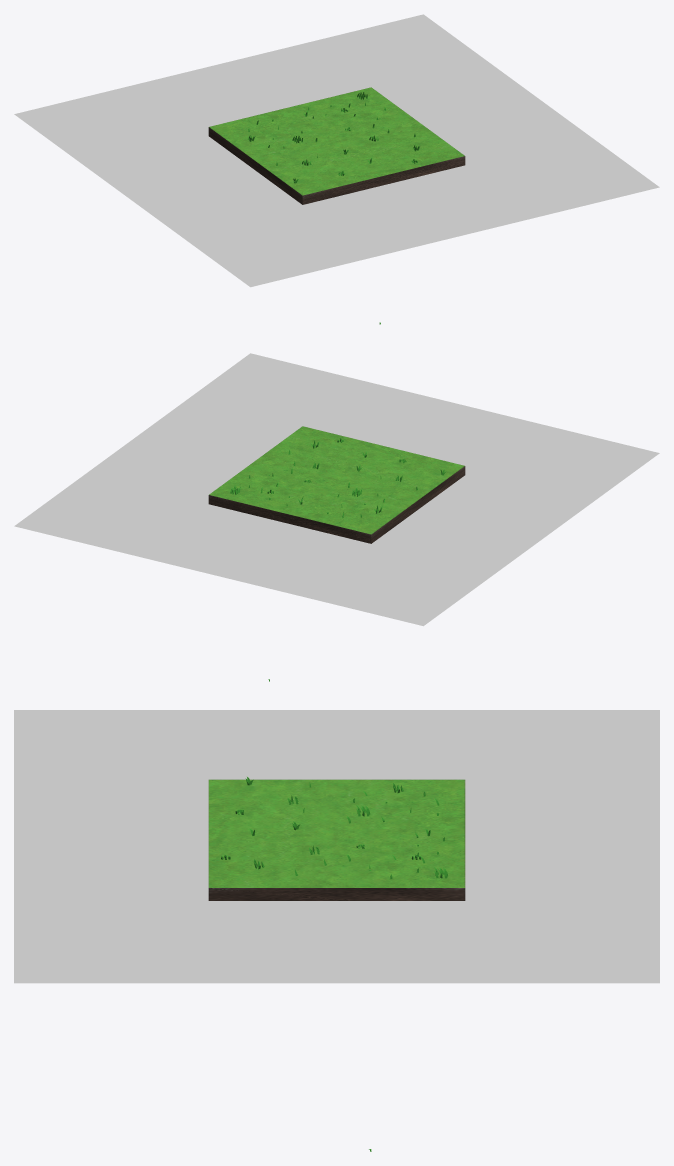
Rendered from GRASS_TILE.glb.
The picture shows the model from 3 angles, top to bottom: view 1: azimuth 30°, elevation 25°; view 2: azimuth 150°, elevation 25°; view 3: azimuth 270°, elevation 25°; orthographic projection. The views are drawn at different scales.
Visible parts, largest first — view 1: Plane, Cube.001; view 2: Plane, Cube.001; view 3: Plane, Cube.001.
Part boxes in pixels (bbox=[...]): Plane: bbox=[14, 14, 659, 287]; Cube.001: bbox=[208, 87, 465, 204]; Plane: bbox=[14, 353, 659, 626]; Cube.001: bbox=[208, 426, 465, 543]; Plane: bbox=[14, 710, 659, 983]; Cube.001: bbox=[208, 777, 465, 900].
Bounding box in the file's own units: 40.35 × 19.88 × 40.35.
Materials: 3 (1 with a texture image).
